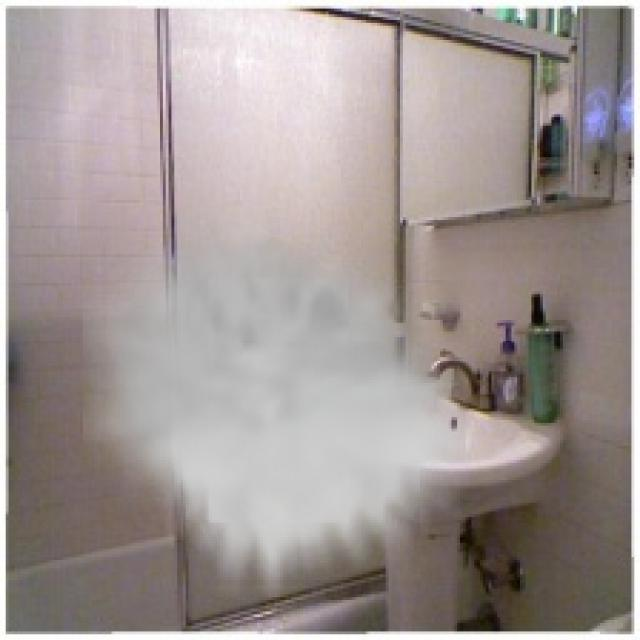smoke: (83, 206, 471, 597)
